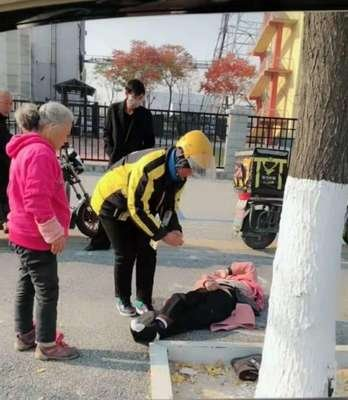fall: (128, 249, 267, 347)
